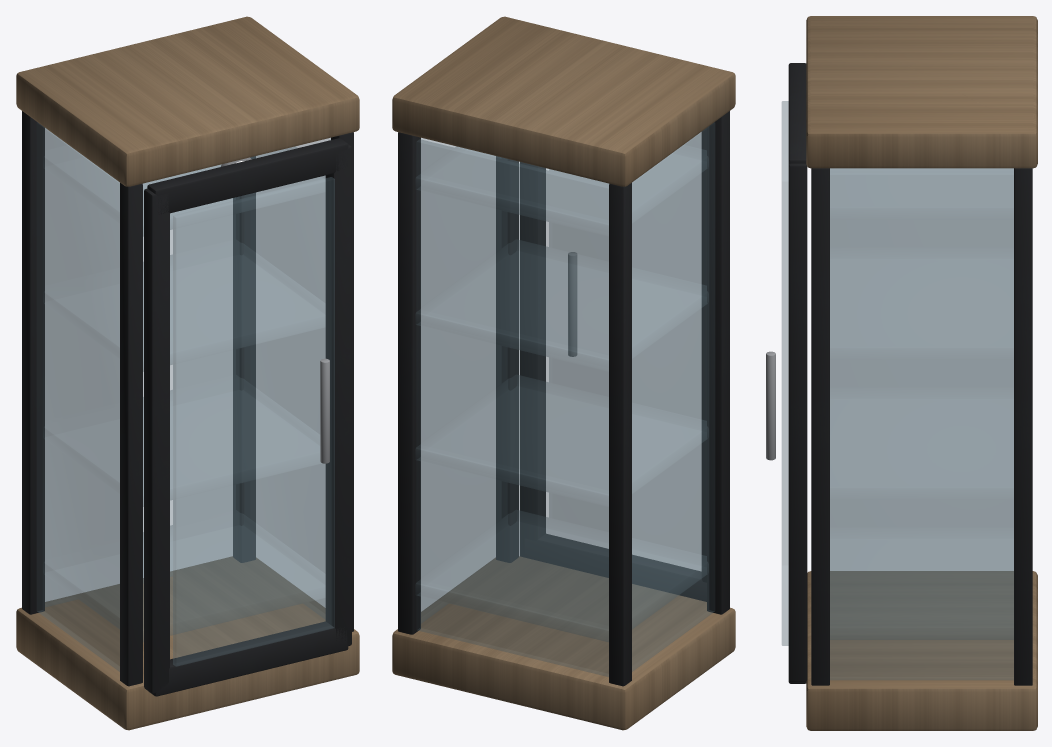
The model's file is pf_display_glass_display_tower_t2.glb.
3 renders of one model, left to right at view 1: azimuth 30°, elevation 25°; view 2: azimuth 150°, elevation 25°; view 3: azimuth 270°, elevation 25°, orthographic. The views are drawn at different scales.
Parts seen in each view (by area): view 1: Door_Glass_01, Tower_Glass_2, Tower_Top, Tower_Base, Tower_Glass_1, Tower_Glass_3, Shelf_01, Shelf_03, Shelf_02, Door_Frame_01_L, Door_Frame_01_R, Tower_Post_-0.31_-0.25 (+7 smaller); view 2: Tower_Glass_1, Tower_Glass_2, Tower_Top, Tower_Base, Door_Glass_01, Shelf_02, Shelf_01, Shelf_03, Tower_Glass_3, Shelf_04, Tower_Post_-0.31_+0.25, Tower_Post_+0.31_+0.25 (+6 smaller); view 3: Tower_Glass_3, Tower_Top, Tower_Base, Shelf_01, Shelf_02, Shelf_03, Tower_Glass_2, Door_Frame_01_R, Tower_Post_+0.31_+0.25, Tower_Post_+0.31_-0.25, Shelf_04, Door_Glass_01 (+2 smaller).
Part boxes in pixels (<box>): Door_Glass_01: <box>173,177,334,666</box>; Tower_Glass_2: <box>37,123,119,671</box>; Tower_Top: <box>16,16,359,186</box>; Tower_Base: <box>16,556,359,730</box>; Tower_Glass_1: <box>45,128,235,606</box>; Tower_Glass_3: <box>250,138,330,618</box>; Shelf_01: <box>45,514,325,641</box>; Shelf_03: <box>44,244,325,371</box>; Shelf_02: <box>44,379,321,506</box>; Door_Frame_01_L: <box>144,188,169,693</box>; Door_Frame_01_R: <box>325,144,351,645</box>; Tower_Post_-0.31_-0.25: <box>120,183,142,686</box>; Tower_Glass_1: <box>417,139,608,676</box>; Tower_Glass_2: <box>632,123,714,671</box>; Tower_Top: <box>392,16,735,186</box>; Tower_Base: <box>392,556,735,730</box>; Door_Glass_01: <box>549,132,701,553</box>; Shelf_02: <box>416,375,707,506</box>; Shelf_01: <box>416,510,706,641</box>; Shelf_03: <box>416,240,707,371</box>; Tower_Glass_3: <box>421,138,501,623</box>; Shelf_04: <box>416,145,706,236</box>; Tower_Post_-0.31_+0.25: <box>609,183,631,686</box>; Tower_Post_+0.31_+0.25: <box>398,132,420,634</box>; Tower_Glass_3: <box>830,172,1013,679</box>; Tower_Top: <box>806,16,1037,168</box>; Tower_Base: <box>806,571,1037,730</box>; Shelf_01: <box>830,527,1013,639</box>; Shelf_02: <box>830,387,1013,499</box>; Shelf_03: <box>830,247,1013,359</box>; Tower_Glass_2: <box>830,168,1013,526</box>; Door_Frame_01_R: <box>788,163,807,681</box>; Tower_Post_+0.31_+0.25: <box>1014,168,1032,685</box>; Tower_Post_+0.31_-0.25: <box>811,168,829,685</box>; Shelf_04: <box>830,168,1013,219</box>; Door_Glass_01: <box>782,101,788,645</box>.
Size of the model in its own units: 0.68 by 1.6 by 0.657.
6 materials, 2 textured.
